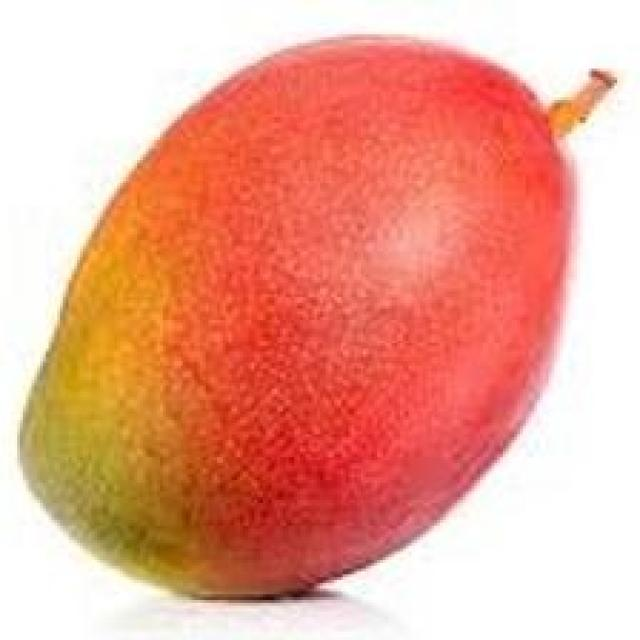Good_Mango: (14, 34, 614, 600)
